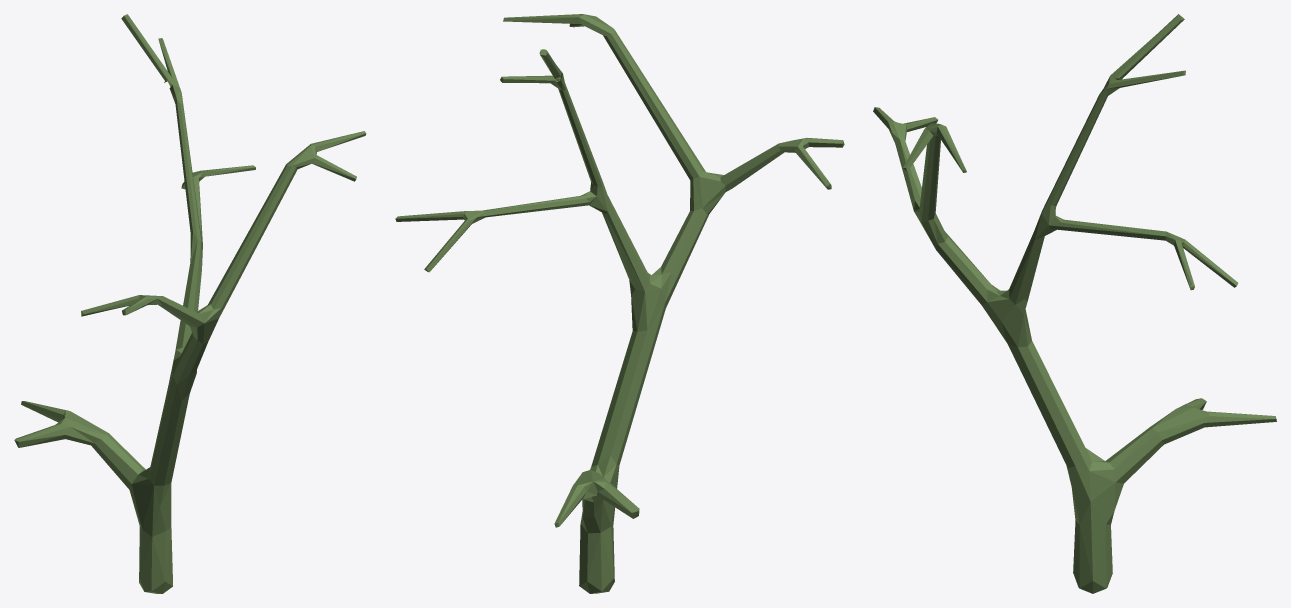
File: plant09.fbx
3 renders of one model, left to right at view 1: azimuth 30°, elevation 25°; view 2: azimuth 150°, elevation 25°; view 3: azimuth 270°, elevation 25°, orthographic. The views are drawn at different scales.
Visible parts, largest first — view 1: Plane.056; view 2: Plane.056; view 3: Plane.056.
Boxes of the visible parts, x1=… form: Plane.056: x1=14, y1=14, x2=366, y2=593; Plane.056: x1=395, y1=14, x2=844, y2=593; Plane.056: x1=873, y1=14, x2=1276, y2=593.
Bounding box in the file's own units: 0.3082 × 0.5392 × 0.3385.
